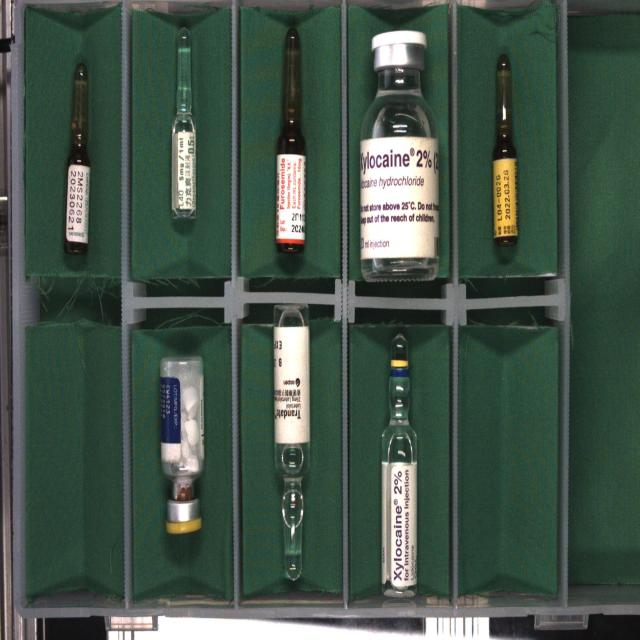Vials: (360, 30, 439, 281), (161, 356, 204, 534)
